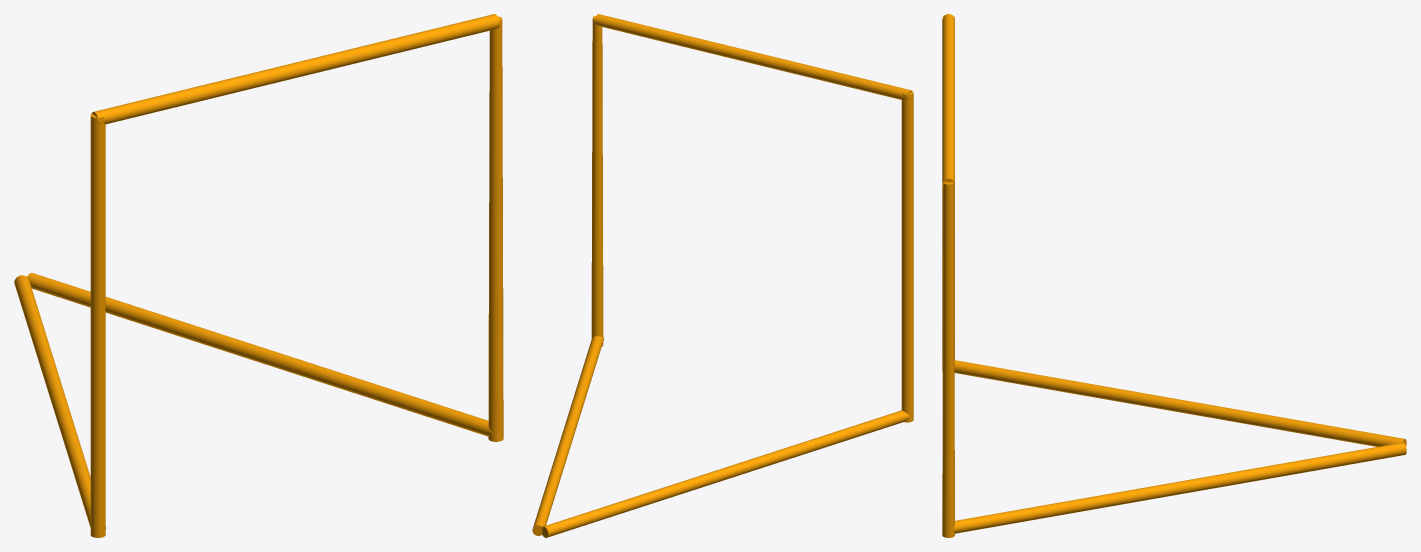
File: lax_goal.glb
The picture shows the model from 3 angles, left to right: view 1: azimuth 30°, elevation 25°; view 2: azimuth 150°, elevation 25°; view 3: azimuth 270°, elevation 25°; orthographic projection. The views are drawn at different scales.
Parts seen in each view (by area): view 1: Cylinder (×5); view 2: Cylinder (×5); view 3: Cylinder (×4).
Boxes of the visible parts, x1=… form: Cylinder (×5): x1=14, y1=14, x2=503, y2=537; Cylinder (×5): x1=532, y1=14, x2=913, y2=537; Cylinder (×4): x1=942, y1=14, x2=1406, y2=537.
Bounding box in the file's own units: 1.87 × 1.85 × 2.18.
